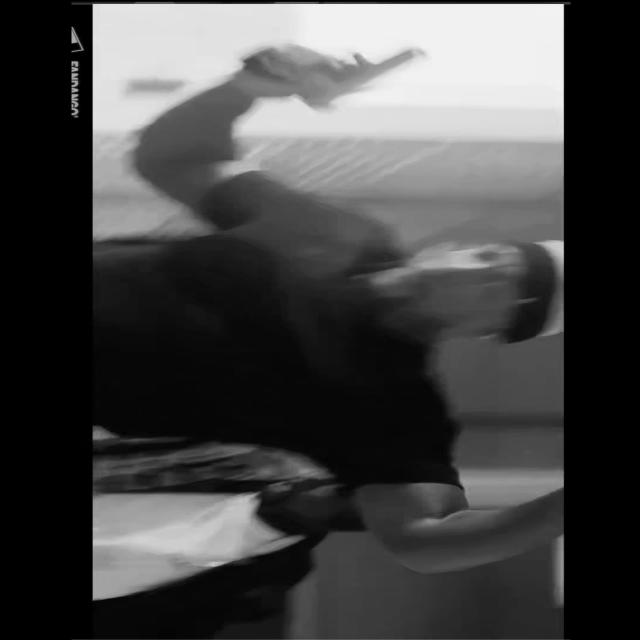weapons: (218, 31, 446, 120)
